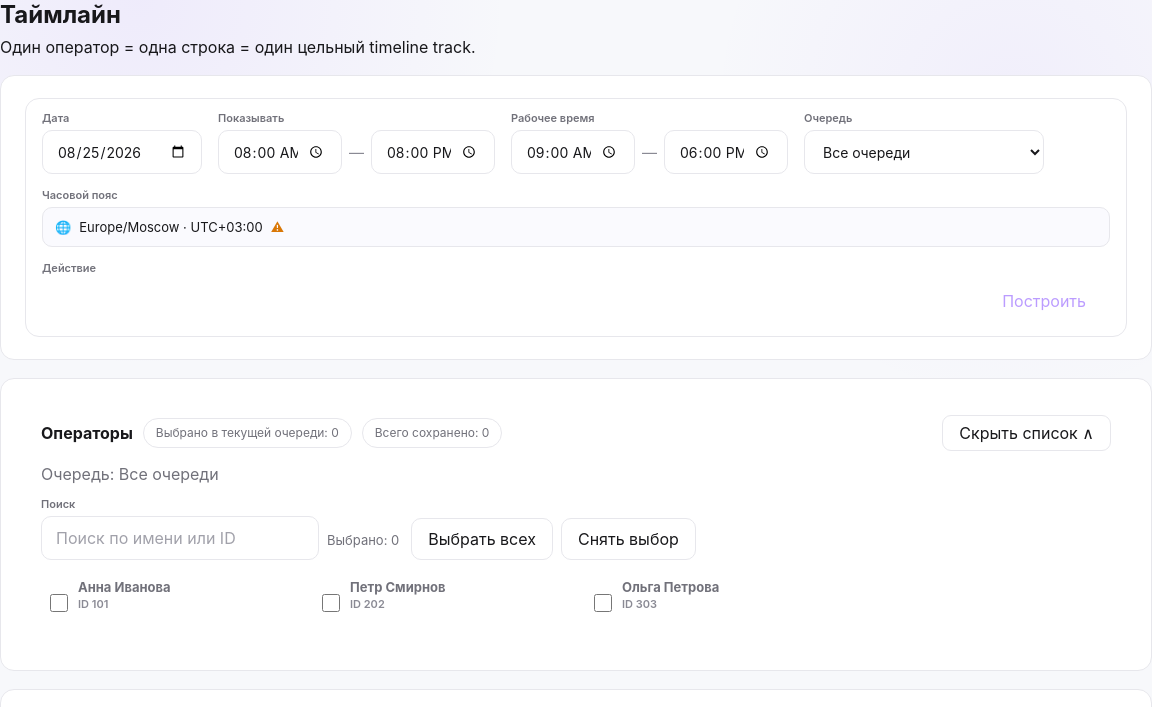
Test: TimelinePage component behavior › shows a compact empty state when queue has no operators
Expected: the text "Анна Иванова" is shown, [78,579,170,595]
Select "Пустая очередь" in the dropdown with test id "timeline-queue-select" at x=924, y=152, box [804,130,1044,174]
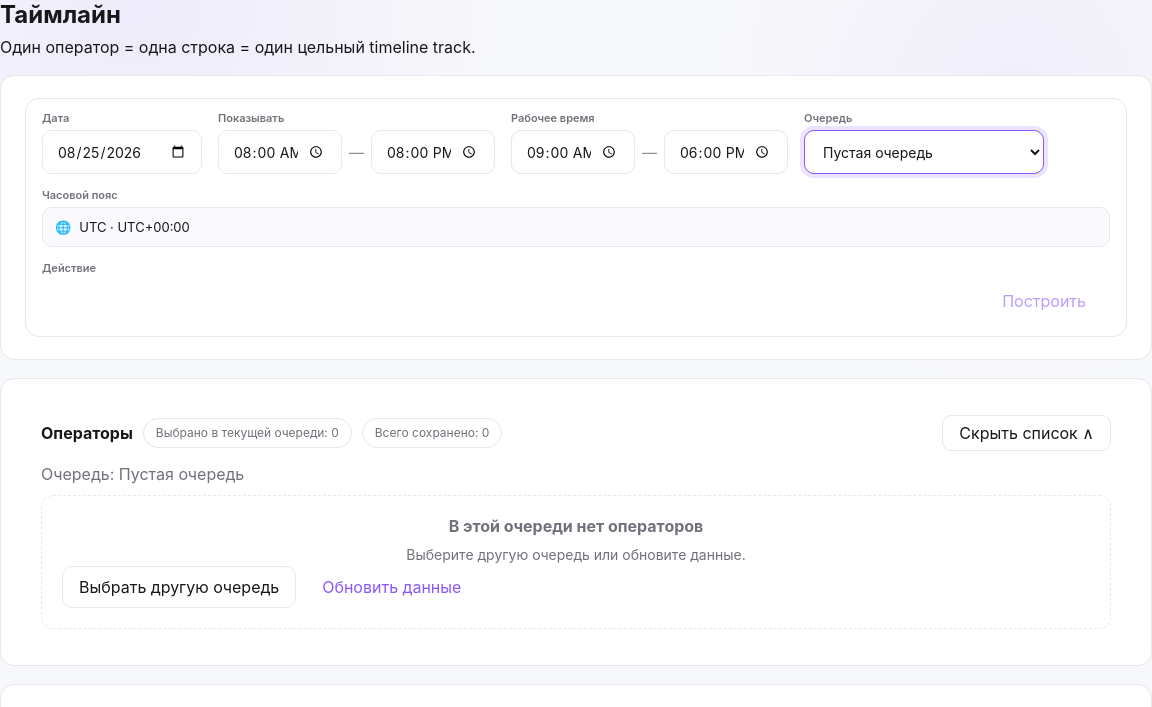
Now the element with test id "timeline-empty-queue" is shown, box [41,495,1111,629]
Now the text "В этой очереди нет операторов" is shown, box [449,516,703,536]
